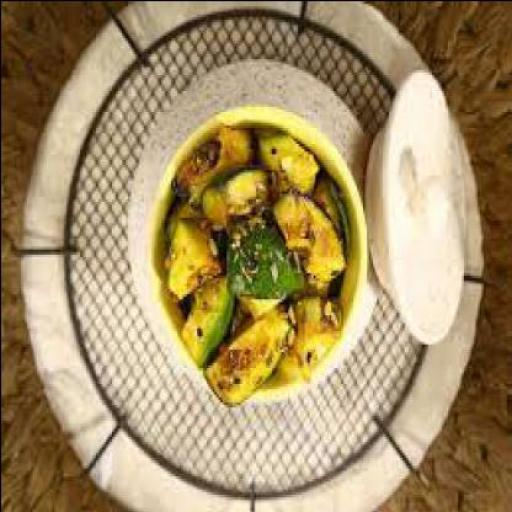biodegradable: (148, 106, 362, 411), (200, 312, 290, 412), (221, 227, 295, 319), (269, 201, 338, 293), (174, 132, 249, 206), (276, 302, 340, 385), (176, 278, 228, 372), (160, 220, 215, 303), (251, 129, 320, 193), (198, 171, 265, 235), (310, 177, 348, 254), (162, 204, 202, 248)
